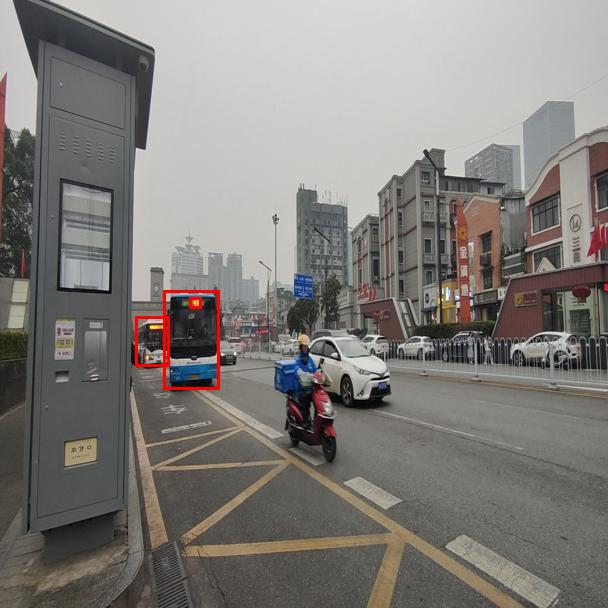bus: (163, 290, 219, 389), (135, 316, 169, 366)
screen: (189, 297, 201, 308)
